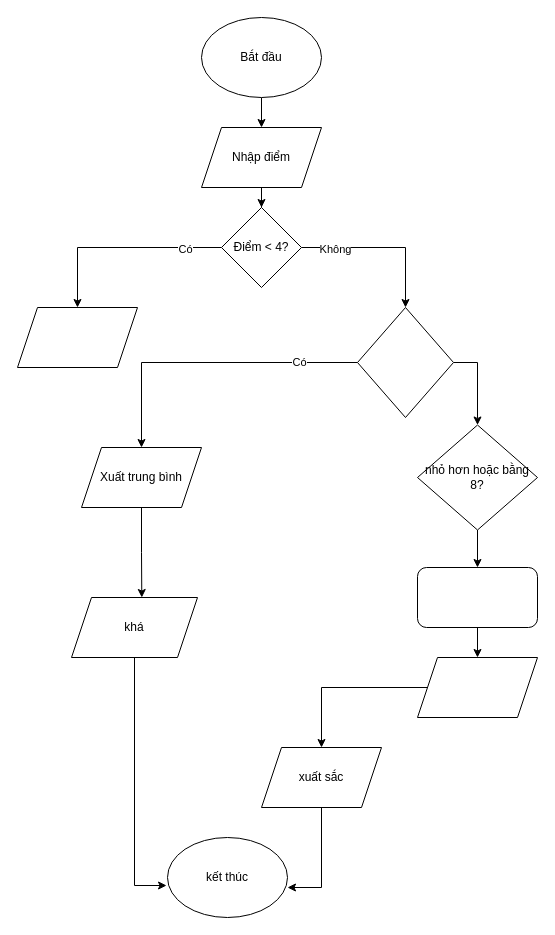
Image size: 555x935. Some labels were removed from this diagram. Each missing label, with the centre of its shape:
nhỏ hơn hoặc bằng 6?: the point at 405,362
nhỏ hơn hoặc bằng 9?: the point at 477,597
Xuất giỏi: the point at 477,687
Xuất không đạt: the point at 77,337
